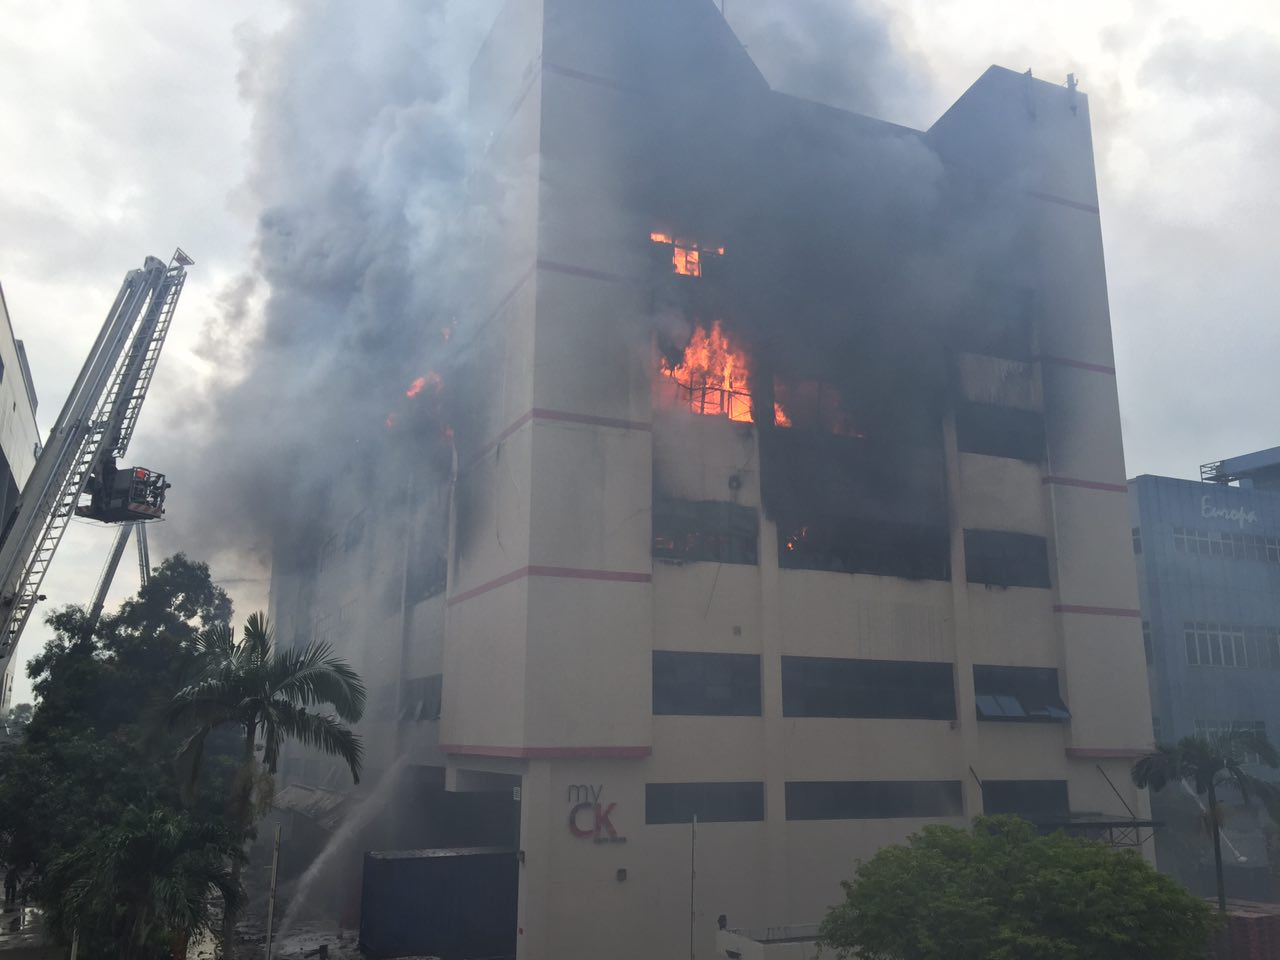fire: (650, 242, 786, 427)
smoke: (188, 42, 518, 578), (542, 19, 1069, 240), (803, 242, 1071, 553)
